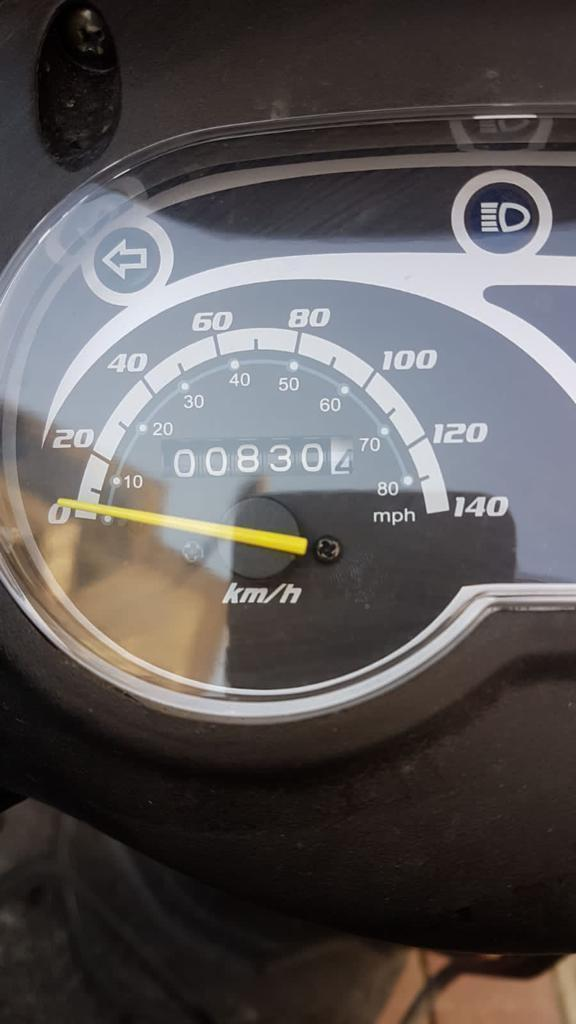0: (204, 445, 228, 477), (299, 442, 324, 472), (173, 447, 195, 478)
3: (268, 443, 292, 472)
4: (335, 449, 355, 476)
8: (236, 443, 259, 473)
odometer: (157, 435, 356, 481)
